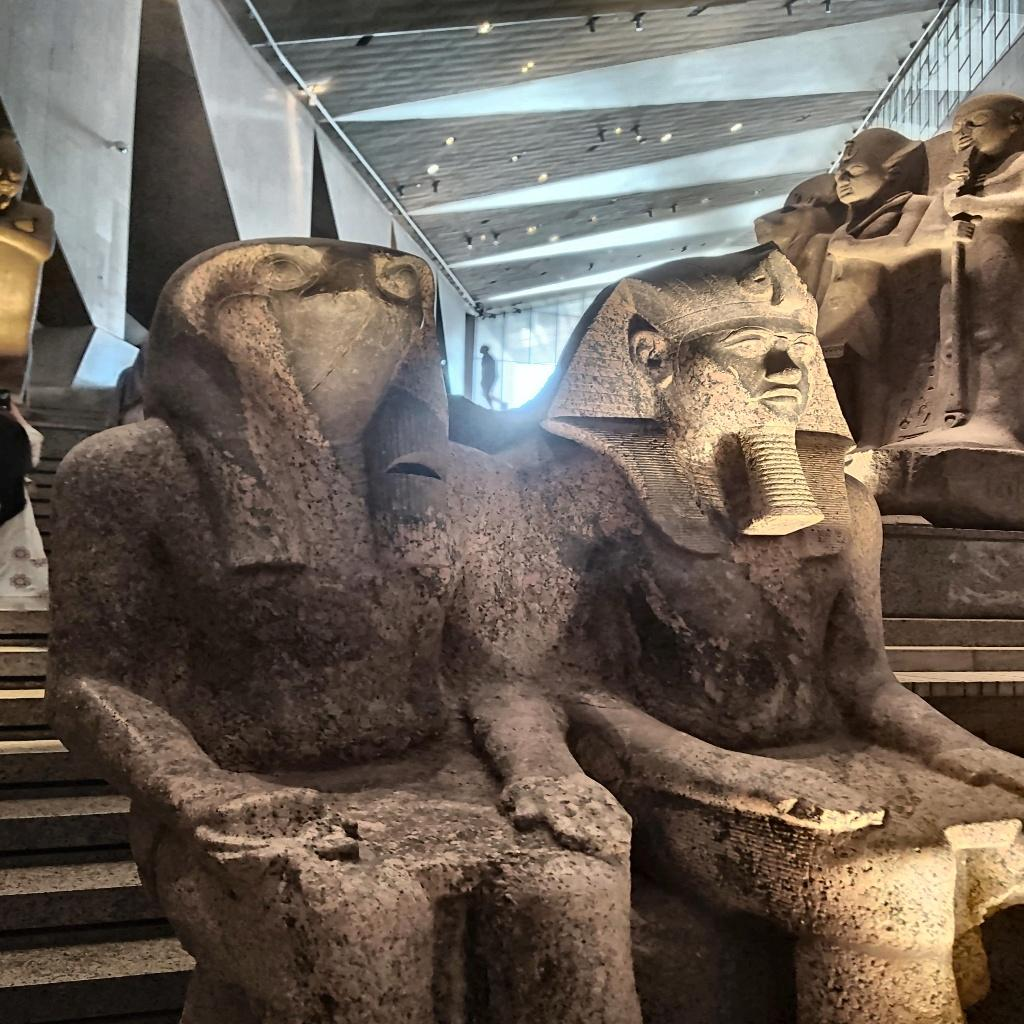Statue of Amenhotep III and God Re-Horakhty: (58, 244, 903, 826)
